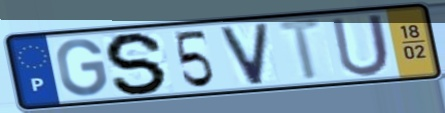5: (171, 28, 217, 89)
G: (54, 36, 110, 98)
S: (102, 30, 171, 97)
T: (274, 16, 329, 84)
U: (328, 11, 393, 79)
V: (216, 20, 271, 87)
